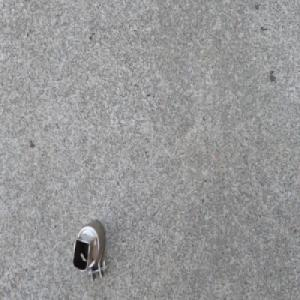MetalPart: (71, 217, 109, 284)
